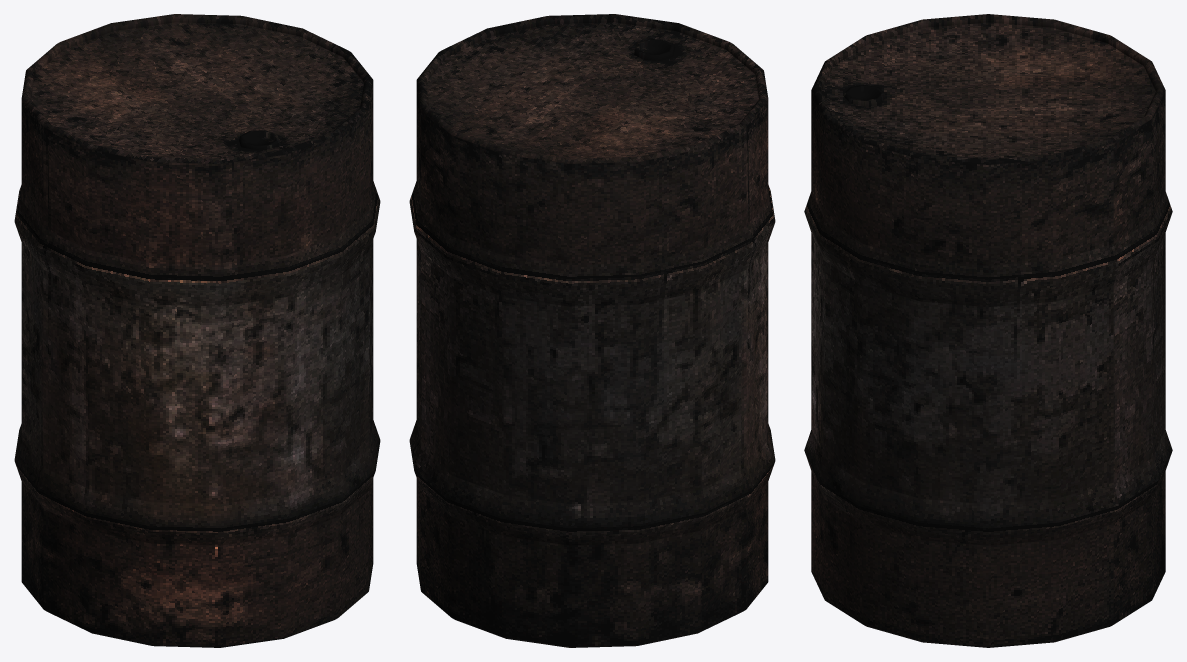
Rendered from metal_barrel_3.glb.
The picture shows the model from 3 angles, left to right: view 1: azimuth 30°, elevation 25°; view 2: azimuth 150°, elevation 25°; view 3: azimuth 270°, elevation 25°; orthographic projection.
Visible parts, largest first — view 1: metal_barrel_3; view 2: metal_barrel_3; view 3: metal_barrel_3.
Part boxes in pixels (bbox=[...]): metal_barrel_3: bbox=[14, 14, 380, 647]; metal_barrel_3: bbox=[409, 14, 775, 647]; metal_barrel_3: bbox=[804, 14, 1172, 647].
Bounding box in the file's own units: 0.7488 × 1.09 × 0.7488.
Materials: 1 (1 with a texture image).
